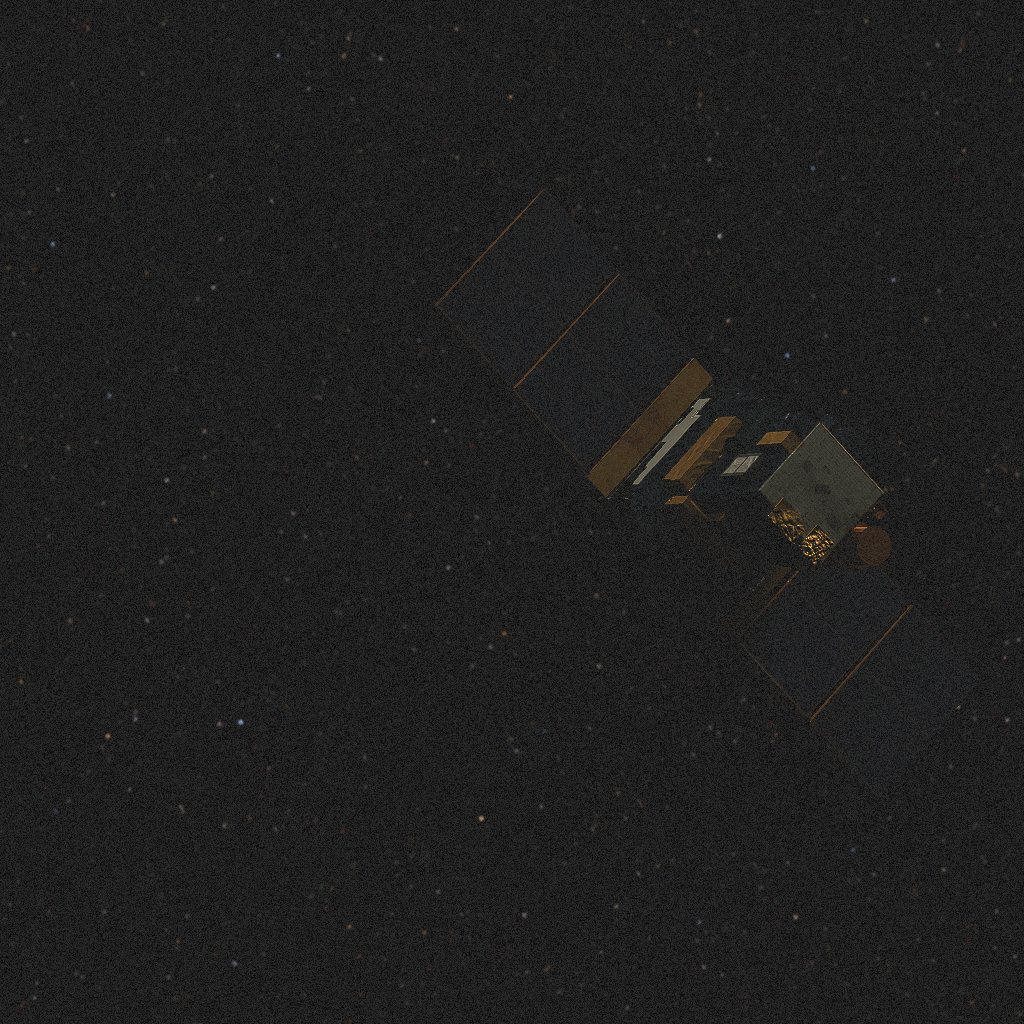soho: (435, 189, 980, 797)
